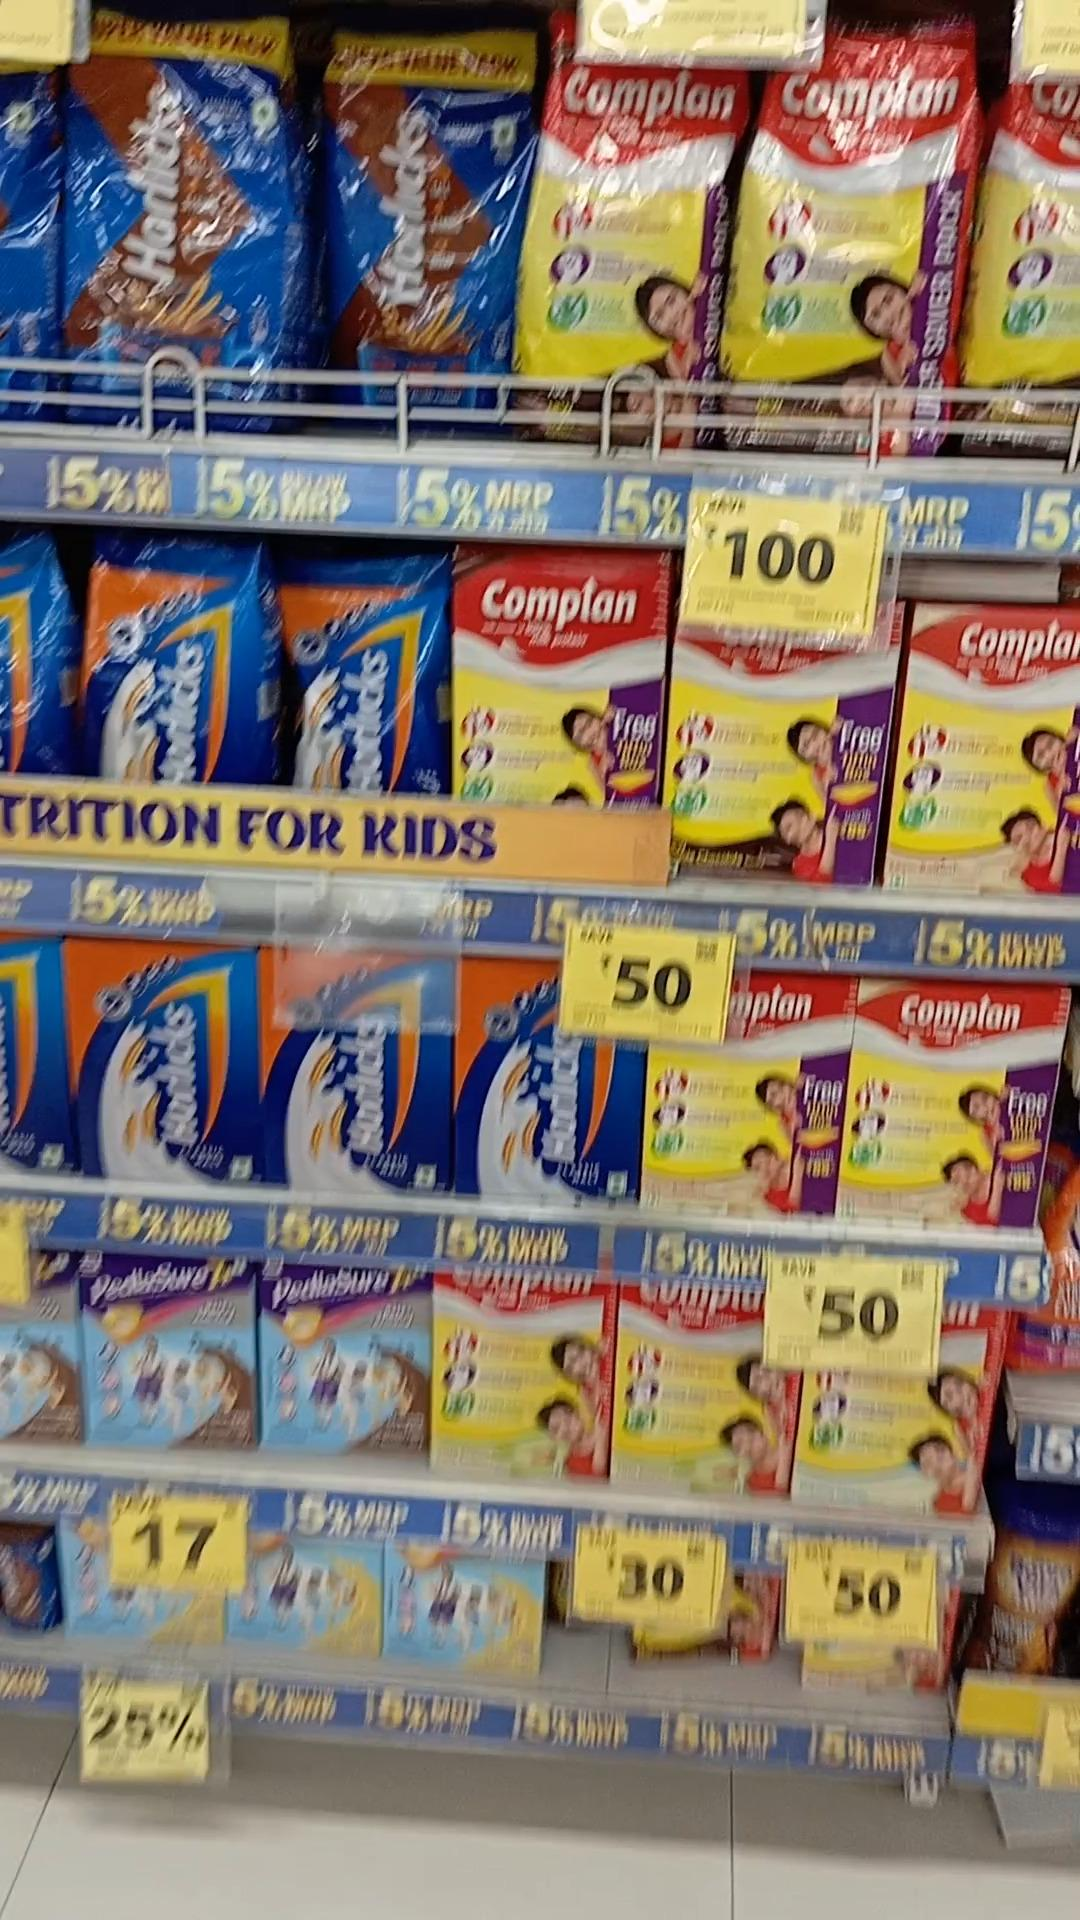COMPLAN_CHOCOLATE_500_GMS_PACK: (671, 620, 881, 889), (460, 554, 658, 811)
COMPLAN_CREAMY_CLASSIC_500_G_PACK: (796, 1354, 986, 1516)
COMPLAN_KESAR_BADAM_500_GMS_PACK: (860, 975, 1055, 1234), (911, 605, 1080, 899), (651, 977, 845, 1218)
COMPLAN_PISTA_BADAM_500_GMS_PACK: (438, 1266, 605, 1493), (618, 1286, 789, 1507)
COMPLAN_RC_POUCH_700_GMS_12: (746, 32, 967, 454), (537, 61, 720, 446)
HORLICK_CHOCOLATE_750_G_POUCH: (70, 16, 299, 434), (323, 29, 520, 435)
HORLICK_CLASSIC_MALT_500_G_PACK: (258, 948, 448, 1199), (69, 938, 257, 1184), (456, 955, 641, 1207)
HORLICK_CLASSIC_MALT_750_G_POUCH: (83, 541, 261, 786), (277, 559, 455, 798)
PEDIASURE_7_PLUS_CHOCOLATE_400_G_PACK: (82, 1254, 252, 1465), (262, 1261, 422, 1468)
